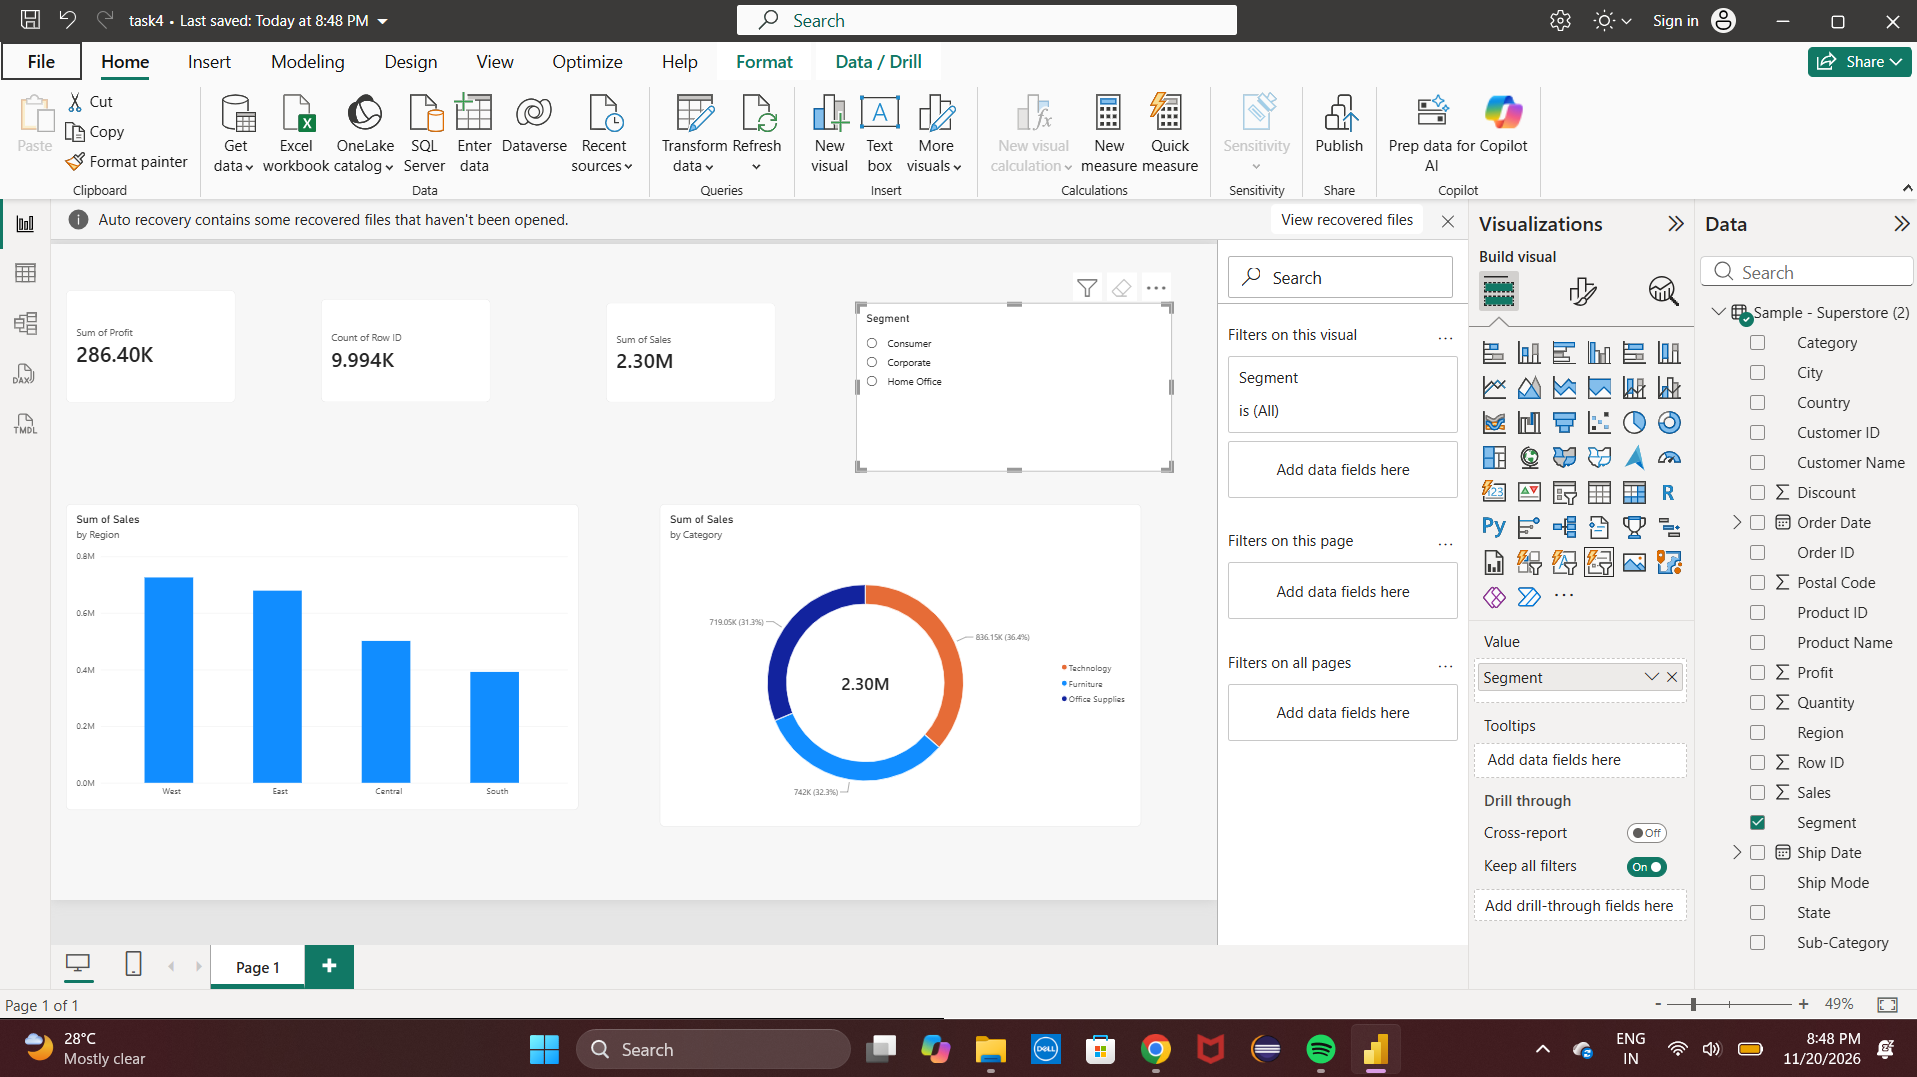

The page's visual inventory and layout, read from the dashboard file:
{"tool":"powerbi","page":{"name":"Page 1","canvas":[1920,1080],"ordinal":0},"visuals":[{"type":"cardVisual","fields":{"Data":["CountNonNull(Sample - Superstore (2).Row ID)"]},"box":[444.6,90.6,279.9,170.8],"z":0},{"type":"cardVisual","fields":{"Data":["Sum(Sample - Superstore (2).Sales)"]},"box":[913.9,96.7,279.9,164.7],"z":1},{"type":"cardVisual","fields":{"Data":["Sum(Sample - Superstore (2).Profit)"]},"box":[24.7,76.2,279.9,185.2],"z":2},{"type":"clusteredColumnChart","fields":{"Category":["Sample - Superstore (2).Region"],"Y":["Sum(Sample - Superstore (2).Sales)"]},"box":[24.7,428.1,843.9,504.3],"z":3},{"type":"donutChart","fields":{"Category":["Sample - Superstore (2).Category"],"Y":["Sum(Sample - Superstore (2).Sales)"]},"box":[1002.4,428.1,792.5,531],"z":4},{"type":"listSlicer","fields":{"Values":["Sample - Superstore (2).Segment"]},"box":[1325.6,96.7,520.8,277.9],"z":5}]}

Visuals, with their boxes on the page's 1920x1080 design canvas (x1, y1, x2, y2). These are canvas units, not pixel positions in the 1917x1077 screenshot, which may show the page scaled, cropped or inside an application window:
cardVisual - CountNonNull(Sample - Superstore (2).Row ID): (445, 91, 724, 261)
cardVisual - Sum(Sample - Superstore (2).Sales): (914, 97, 1194, 261)
cardVisual - Sum(Sample - Superstore (2).Profit): (25, 76, 305, 261)
clusteredColumnChart - Sample - Superstore (2).Region x Sum(Sample - Superstore (2).Sales): (25, 428, 869, 932)
donutChart - Sample - Superstore (2).Category x Sum(Sample - Superstore (2).Sales): (1002, 428, 1795, 959)
listSlicer - Sample - Superstore (2).Segment: (1326, 97, 1846, 375)
